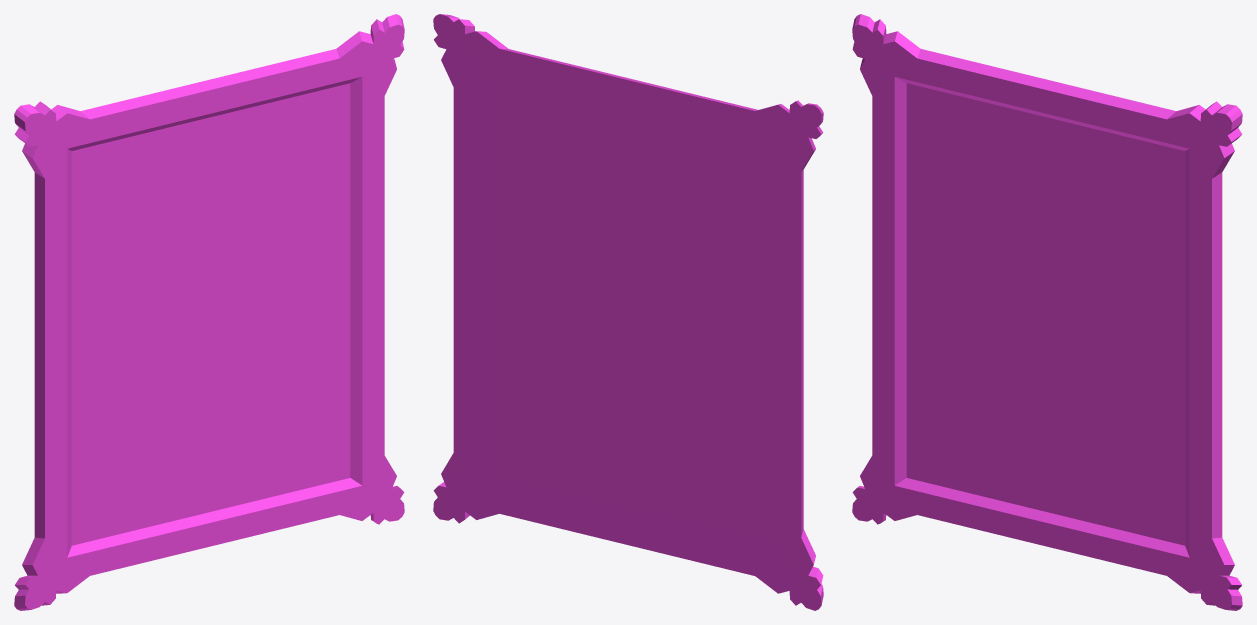
The model's file is SM_Picture_Lovers_Painting_Fantasy.fbx.
The picture shows the model from 3 angles, left to right: view 1: azimuth 30°, elevation 25°; view 2: azimuth 150°, elevation 25°; view 3: azimuth 330°, elevation 25°; orthographic projection.
Visible parts, largest first — view 1: SM_Picture_Lovers_Painting_Fantasy; view 2: SM_Picture_Lovers_Painting_Fantasy; view 3: SM_Picture_Lovers_Painting_Fantasy.
Boxes of the visible parts, x1,y1,x2,y2 form: SM_Picture_Lovers_Painting_Fantasy: [14, 14, 404, 610]; SM_Picture_Lovers_Painting_Fantasy: [433, 14, 823, 610]; SM_Picture_Lovers_Painting_Fantasy: [852, 14, 1242, 610].
Bounding box in the file's own units: 1.59 × 1.98 × 0.0459.
